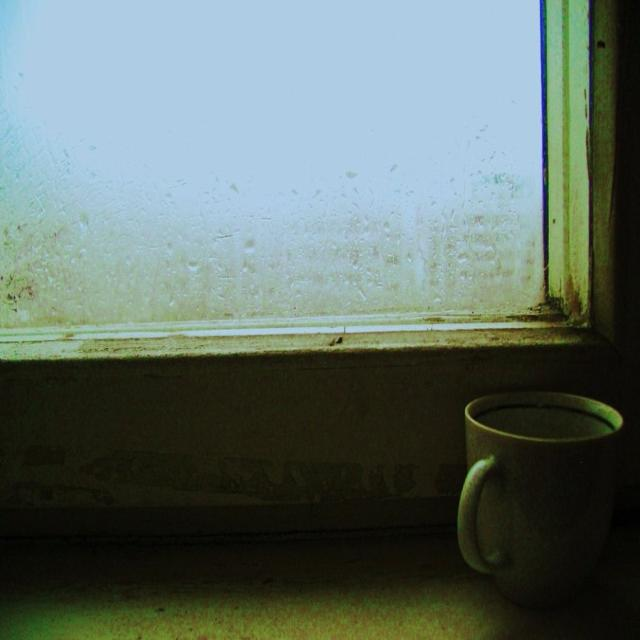Cup: (434, 370, 640, 597)
